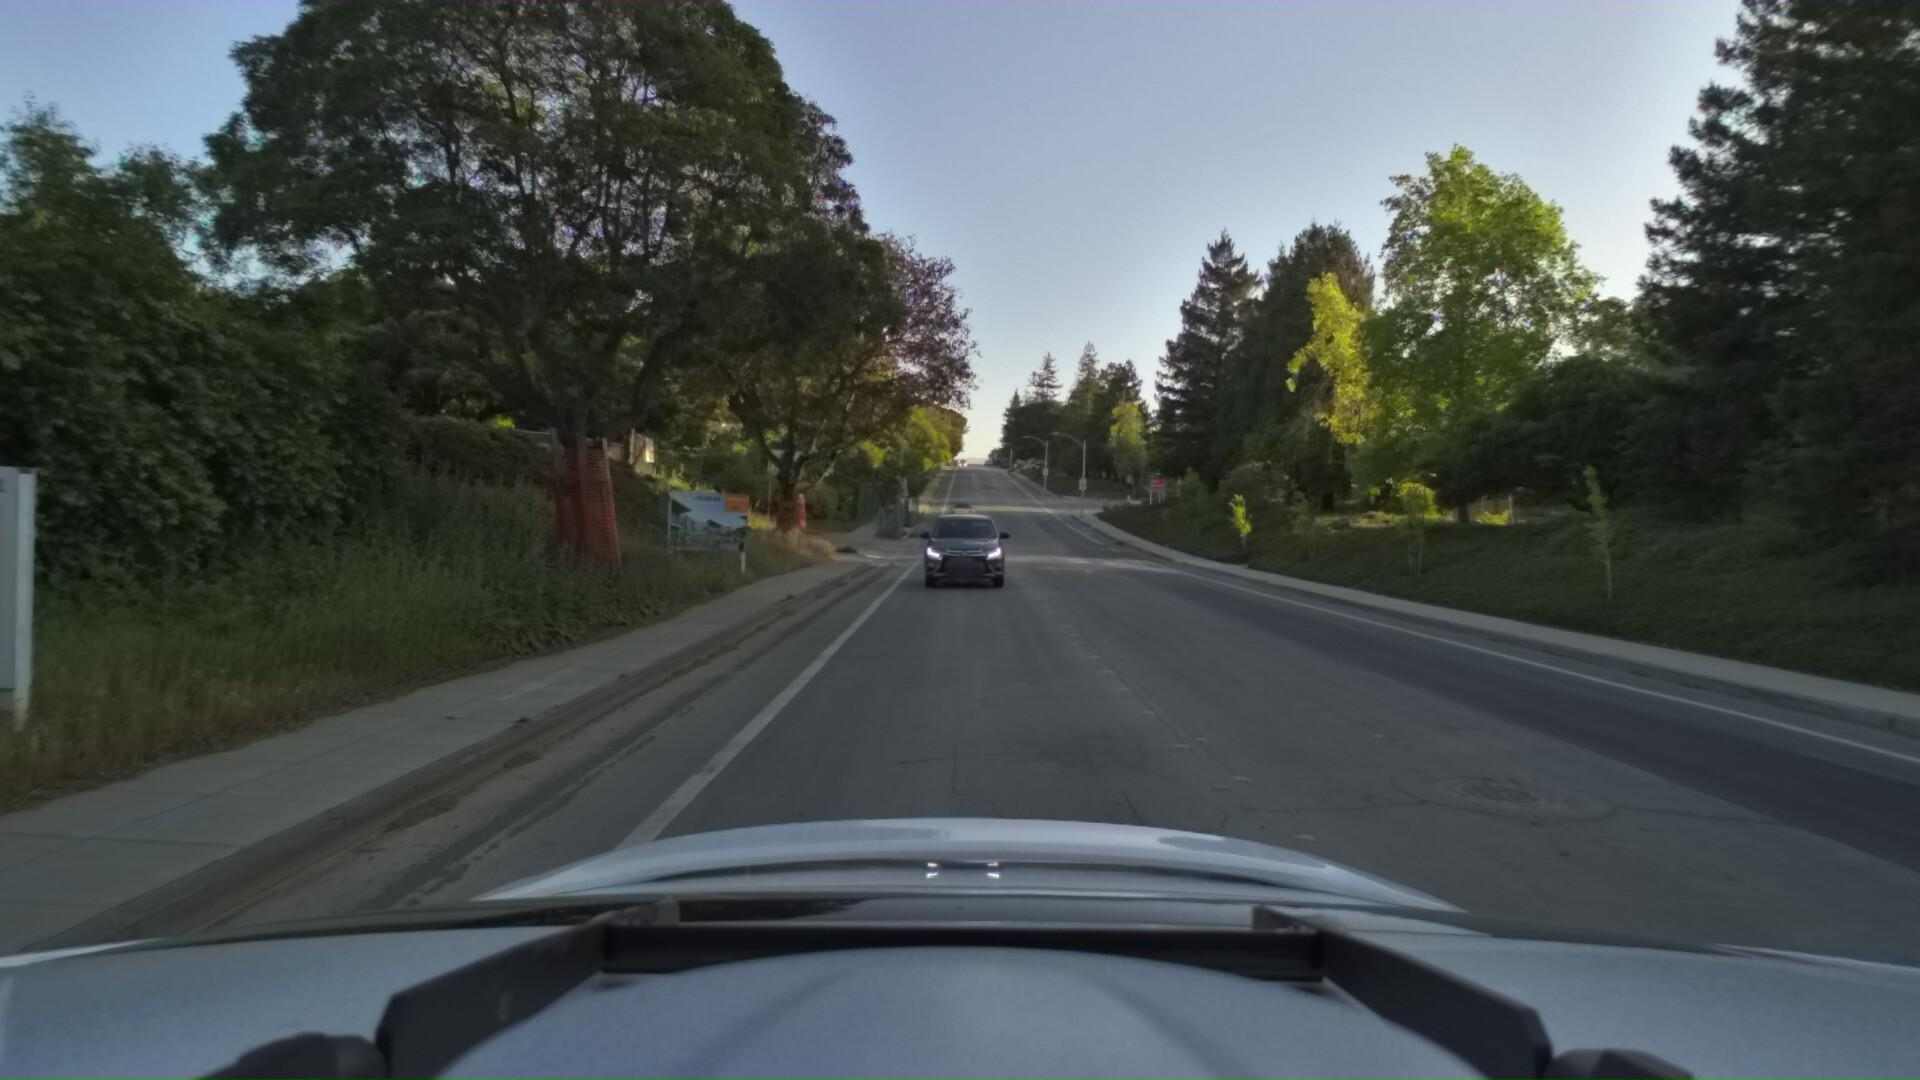car: (914, 500, 1015, 592), (947, 508, 1007, 562), (942, 498, 975, 520)
